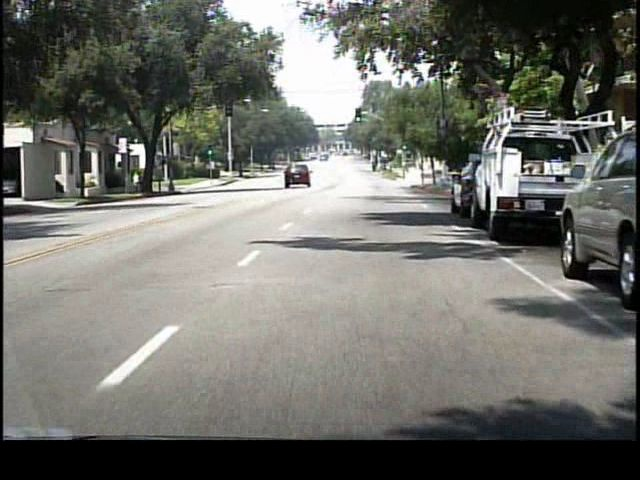person: (135, 170, 143, 195)
